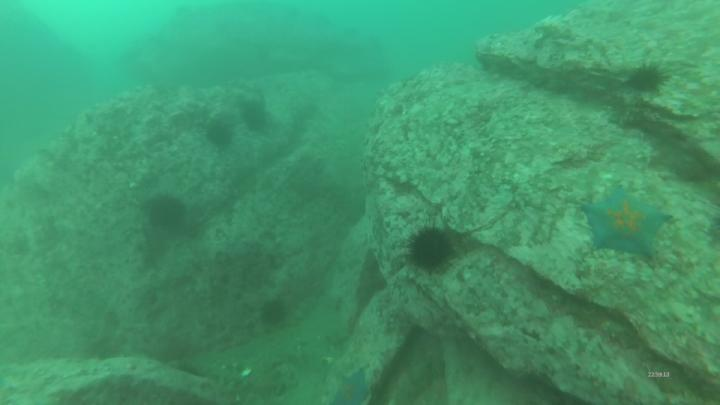echinus: (409, 231, 455, 271), (150, 194, 185, 228), (239, 100, 271, 134), (633, 65, 661, 95), (262, 302, 288, 326), (209, 126, 235, 148)
starfish: (586, 187, 670, 260), (336, 370, 369, 405)
